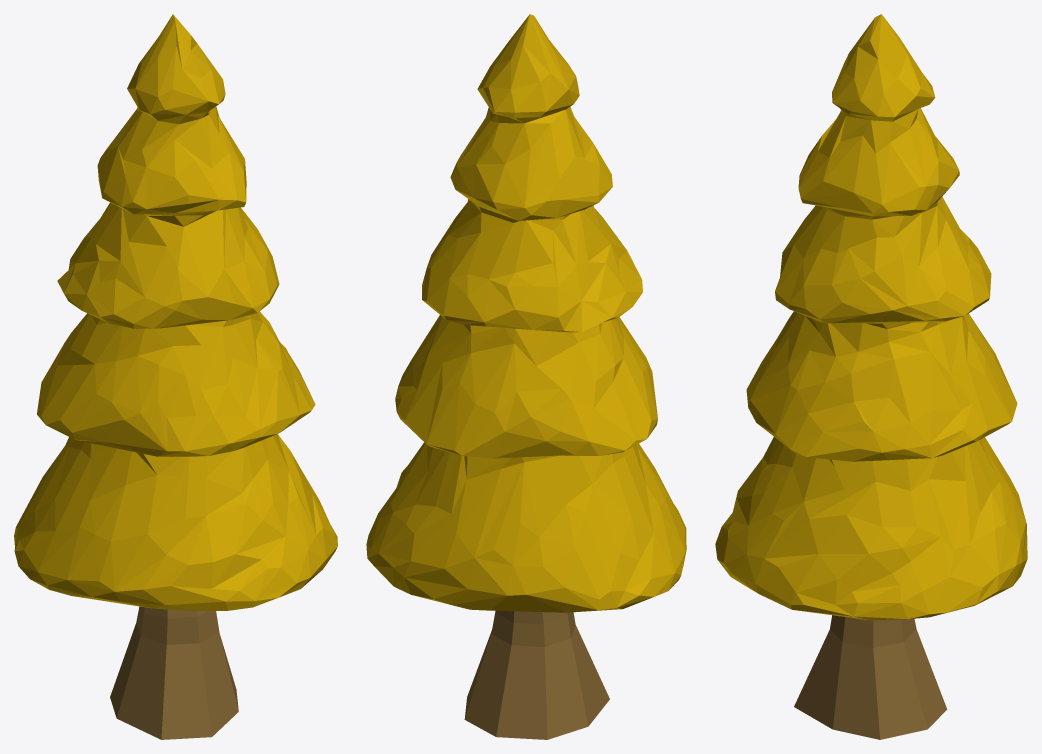
Rendered from barry orange.fbx.
3 views of the same model, side by side, from view 1: azimuth 30°, elevation 25°; view 2: azimuth 150°, elevation 25°; view 3: azimuth 270°, elevation 25° (orthographic).
Visible parts, largest first — view 1: pCylinder1, pCylinder2; view 2: pCylinder1, pCylinder2; view 3: pCylinder1, pCylinder2.
Boxes of the visible parts, x1,y1,x2,y2 form: pCylinder1: [14, 14, 337, 610]; pCylinder2: [110, 606, 238, 739]; pCylinder1: [366, 14, 686, 612]; pCylinder2: [464, 611, 609, 739]; pCylinder1: [715, 14, 1027, 620]; pCylinder2: [794, 615, 947, 739].
Bounding box in the file's own units: 13.73 × 32.24 × 13.13.
